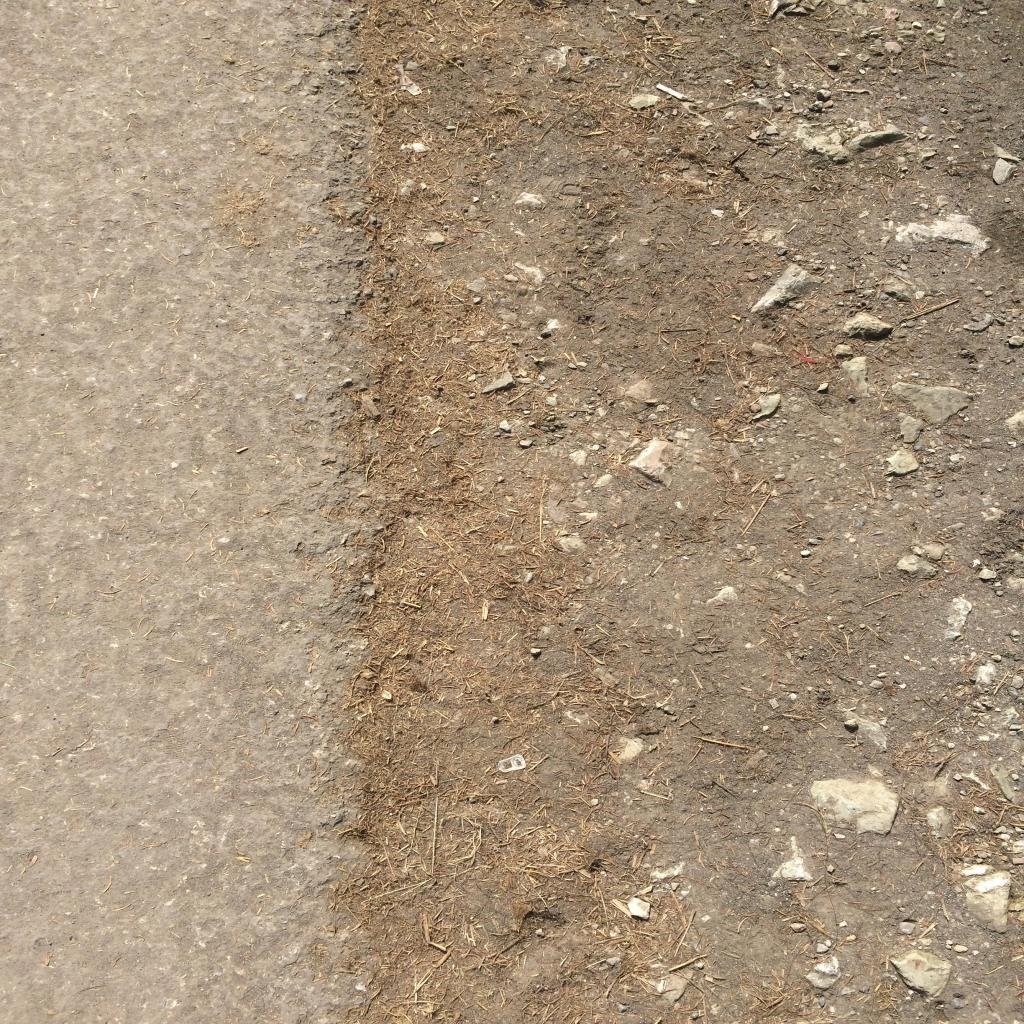Cigarette: (655, 83, 688, 100)
Pop tab: (498, 754, 526, 772)
